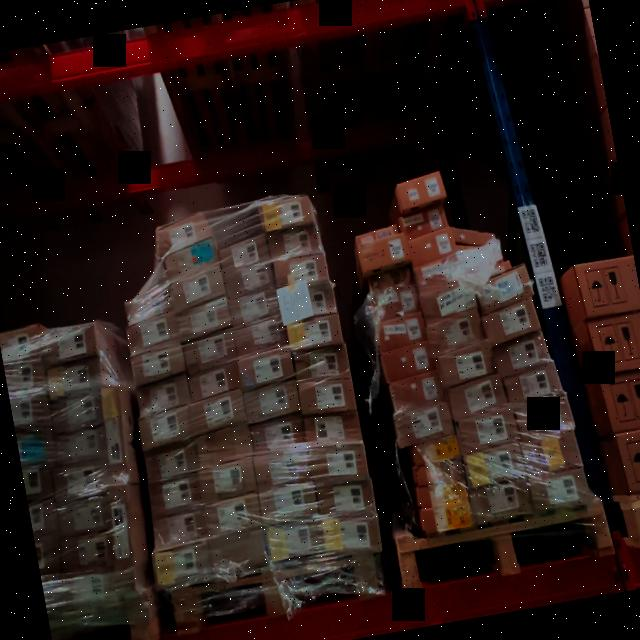box: (575, 255, 640, 316), (588, 312, 640, 373), (458, 406, 520, 454), (520, 430, 584, 476), (54, 492, 118, 538), (154, 544, 214, 592), (528, 468, 590, 514), (462, 444, 526, 488), (309, 440, 370, 486), (260, 480, 321, 526), (323, 514, 384, 560), (57, 529, 118, 575), (512, 395, 574, 440), (265, 520, 328, 564), (202, 493, 263, 538), (437, 343, 498, 388), (471, 265, 532, 310), (470, 480, 532, 524), (394, 402, 454, 447), (482, 298, 542, 343), (502, 362, 563, 406), (318, 478, 376, 524), (278, 280, 340, 323), (198, 458, 258, 502), (208, 532, 268, 576), (447, 376, 507, 420), (492, 332, 552, 376), (41, 320, 100, 364), (188, 391, 248, 434), (426, 311, 486, 354), (304, 409, 362, 452), (49, 392, 107, 435), (298, 376, 357, 418), (292, 344, 351, 386), (168, 266, 227, 308), (45, 356, 104, 398), (130, 343, 188, 385), (420, 278, 478, 320), (602, 369, 640, 433), (245, 381, 302, 423), (175, 297, 232, 339), (255, 448, 312, 490), (51, 426, 108, 468), (286, 312, 344, 353), (153, 506, 208, 549), (140, 406, 196, 448), (196, 426, 254, 466), (250, 414, 308, 454), (149, 473, 205, 514), (186, 362, 242, 402), (238, 349, 294, 389), (182, 330, 238, 370), (357, 230, 410, 272), (162, 240, 220, 278), (54, 460, 109, 500), (145, 442, 201, 481), (382, 342, 436, 382), (64, 570, 118, 610), (136, 376, 192, 414), (272, 251, 329, 288), (390, 372, 444, 411), (260, 194, 314, 232), (395, 172, 446, 212), (374, 312, 426, 351), (127, 314, 180, 352), (158, 216, 212, 252), (267, 224, 322, 259), (234, 317, 286, 354), (228, 288, 280, 325), (217, 236, 269, 272), (412, 255, 464, 290), (366, 265, 416, 301), (406, 436, 461, 468), (406, 228, 454, 264), (2, 356, 48, 393), (225, 262, 275, 296), (460, 244, 509, 278), (400, 204, 450, 237), (15, 428, 56, 468), (9, 393, 52, 431), (0, 324, 43, 362), (124, 290, 172, 324), (420, 504, 472, 535), (370, 292, 418, 324), (451, 219, 500, 250), (413, 461, 464, 490), (418, 480, 467, 510), (22, 464, 58, 504), (617, 428, 640, 490), (34, 534, 64, 574), (29, 500, 60, 536), (42, 574, 68, 613)
